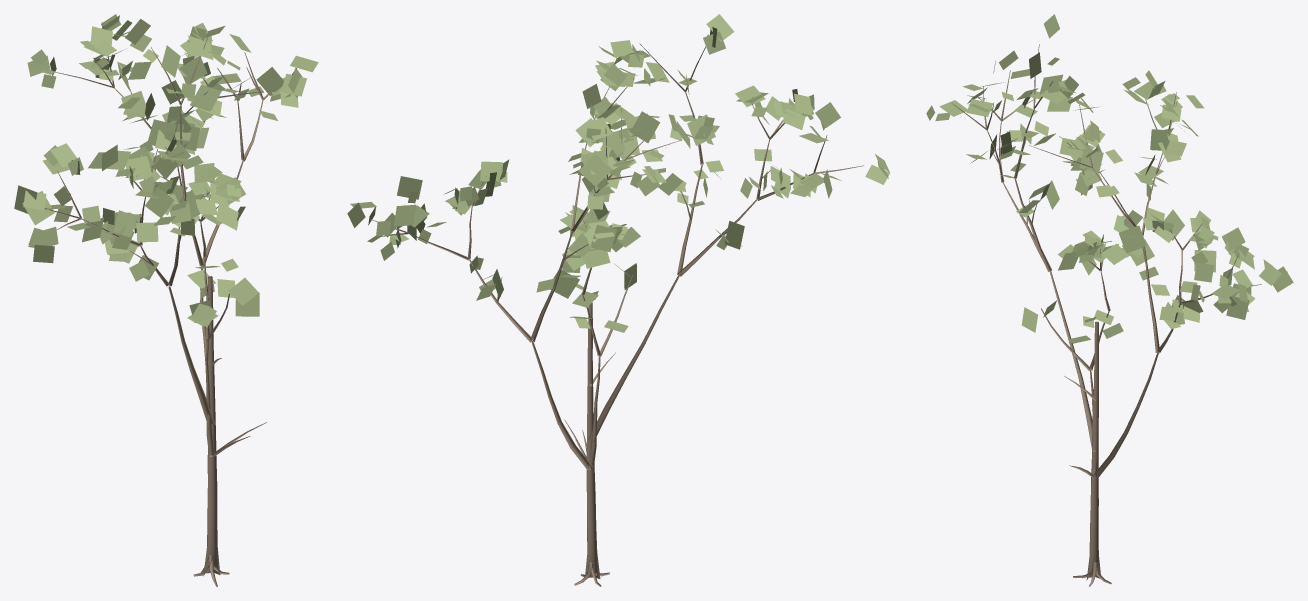
Rendered from tree-b-far.glb.
3 views of the same model, side by side, from view 1: azimuth 30°, elevation 25°; view 2: azimuth 150°, elevation 25°; view 3: azimuth 270°, elevation 25° (orthographic). The views are drawn at different scales.
Visible parts, largest first — view 1: leafB, wood; view 2: leafB, wood; view 3: leafB, wood.
Boxes of the visible parts, left/top/right/bottom form: leafB: left=14, top=14, right=318, bottom=327; wood: left=44, top=22, right=290, bottom=586; leafB: left=347, top=14, right=889, bottom=332; wood: left=370, top=43, right=863, bottom=586; leafB: left=926, top=14, right=1293, bottom=343; wood: left=951, top=44, right=1261, bottom=586.
Size of the model in its own units: 16.53 by 21.88 by 13.97.
